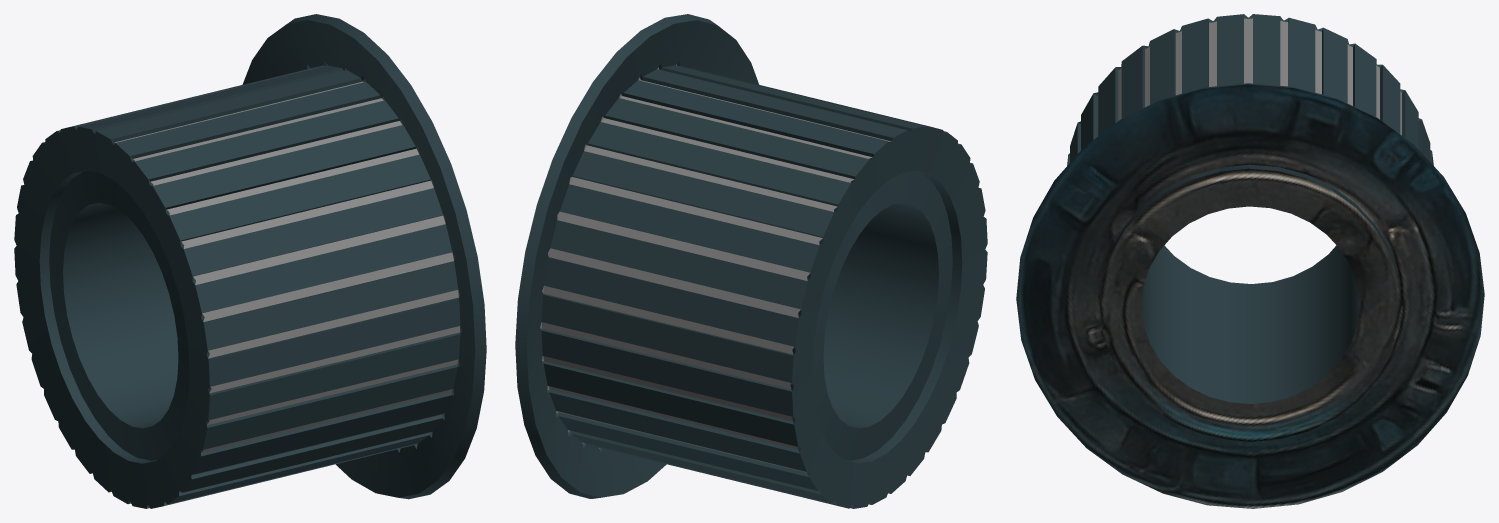
The model's file is CapstoneSpaceshipINSIDE_air_flim.fbx.
3 views of the same model, side by side, from view 1: azimuth 30°, elevation 25°; view 2: azimuth 150°, elevation 25°; view 3: azimuth 270°, elevation 25° (orthographic). The views are drawn at different scales.
Parts seen in each view (by area): view 1: Circle.017; view 2: Circle.017; view 3: Circle.017.
Boxes of the visible parts, x1,y1,x2,y2 form: Circle.017: [14, 14, 486, 508]; Circle.017: [515, 14, 987, 508]; Circle.017: [1016, 14, 1484, 508].
Bounding box in the file's own units: 28.05 × 44.8 × 44.8.
